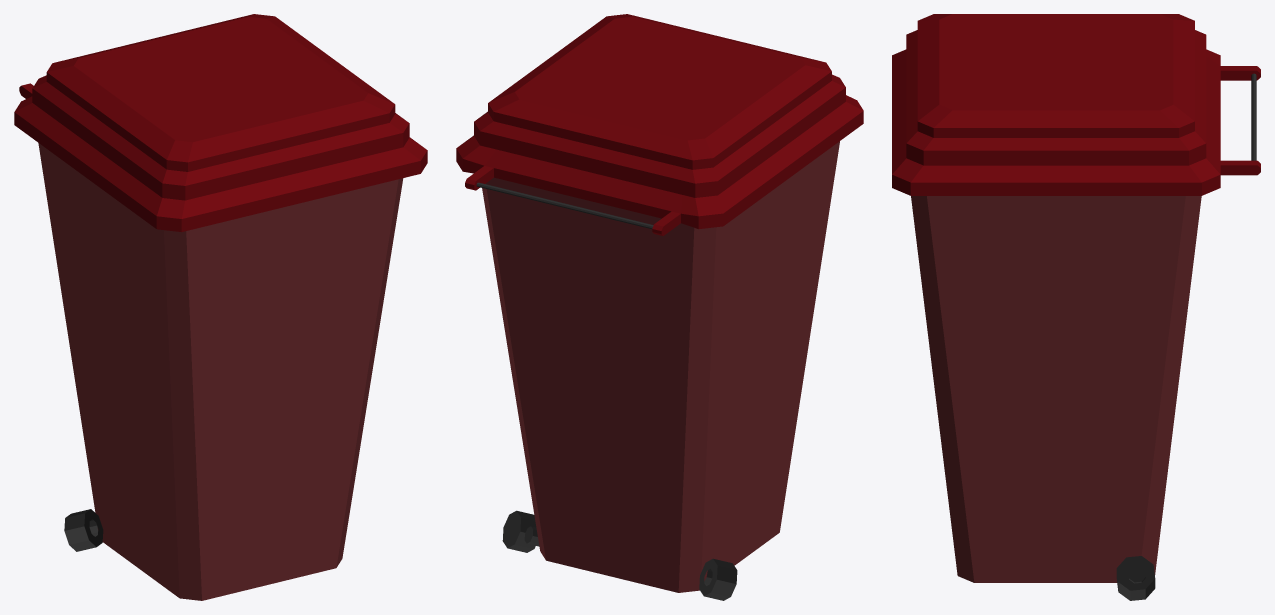
File: red_metallic_bin.fbx
3 renders of one model, left to right at view 1: azimuth 30°, elevation 25°; view 2: azimuth 150°, elevation 25°; view 3: azimuth 270°, elevation 25°, orthographic. The views are drawn at different scales.
Parts seen in each view (by area): view 1: Cube.008; view 2: Cube.008; view 3: Cube.008.
Part boxes in pixels (bbox=[...]): Cube.008: bbox=[14, 14, 427, 600]; Cube.008: bbox=[456, 14, 863, 600]; Cube.008: bbox=[892, 14, 1260, 600].
Bounding box in the file's own units: 204 × 341 × 236.
